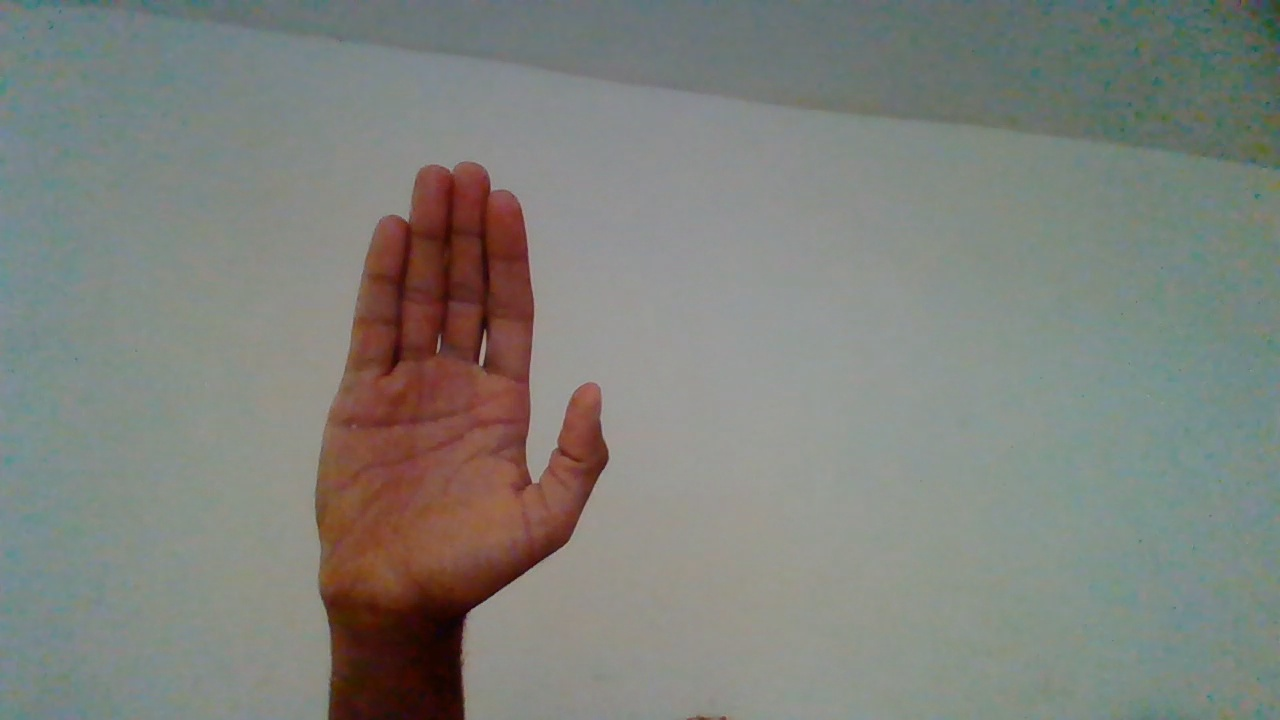ha: (312, 160, 614, 720)
